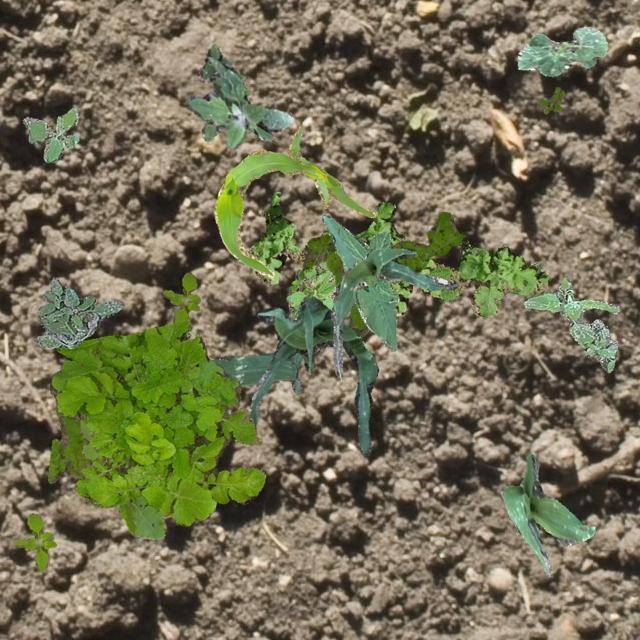crop: (213, 125, 374, 278), (248, 294, 378, 454), (330, 248, 456, 372), (500, 452, 594, 576), (322, 213, 398, 349), (516, 26, 606, 76), (210, 352, 302, 394)
weed: (48, 320, 264, 508), (248, 190, 548, 316), (302, 210, 464, 336), (46, 406, 165, 538), (78, 420, 215, 526), (186, 44, 292, 148), (523, 276, 619, 372), (34, 276, 122, 348), (22, 108, 78, 162), (286, 264, 336, 318), (14, 512, 56, 570), (162, 272, 200, 322), (538, 86, 564, 112)
